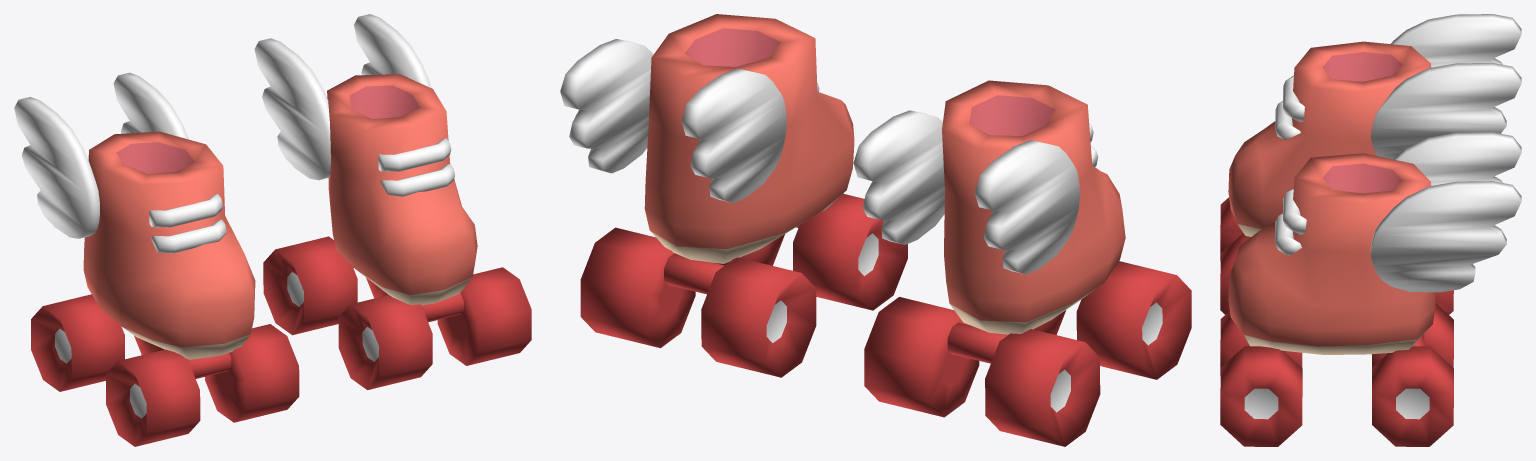
File: skates.fbx
The picture shows the model from 3 angles, left to right: view 1: azimuth 30°, elevation 25°; view 2: azimuth 150°, elevation 25°; view 3: azimuth 270°, elevation 25°; orthographic projection. The views are drawn at different scales.
Parts seen in each view (by area): view 1: right, left; view 2: left, right; view 3: left, right.
Part boxes in pixels (x1,y1,x2,y2): right: (14,72,299,446); left: (254,14,531,389); left: (560,14,907,377); right: (853,80,1191,446); left: (1220,132,1521,446); right: (1220,14,1521,314).
Bounding box in the file's own units: 80.45 × 49.84 × 54.03.
Materials: 1 (1 with a texture image).
